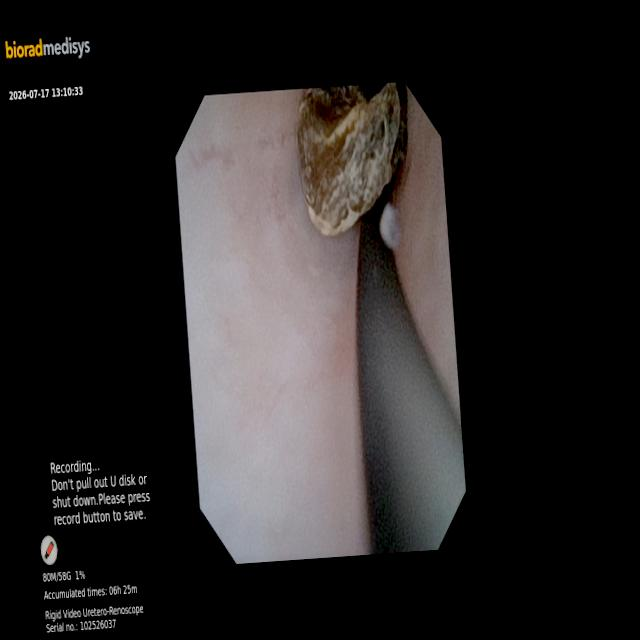stone-new: (297, 82, 399, 234)
